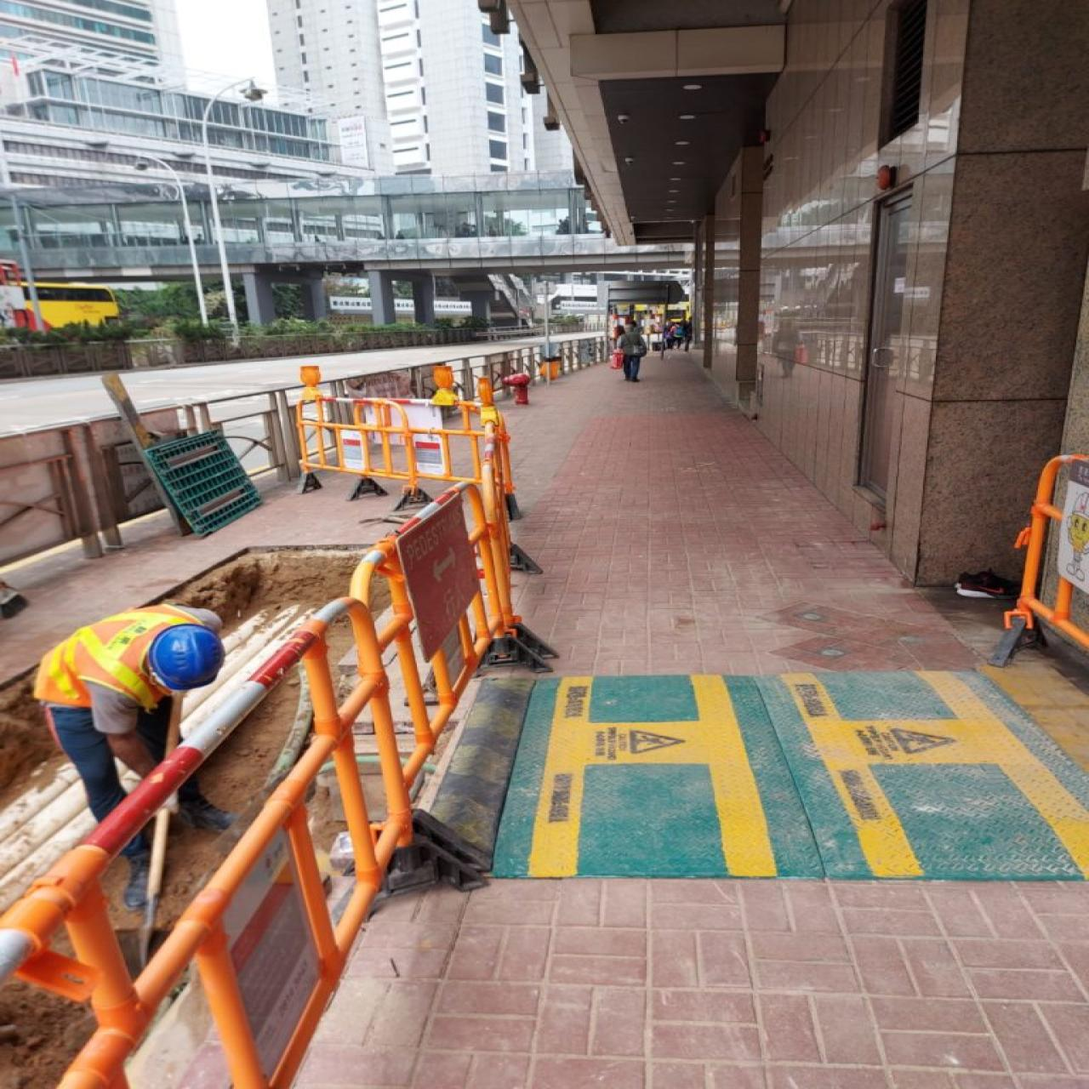Person: (37, 603, 224, 841)
Safety_Vest: (38, 607, 181, 703)
